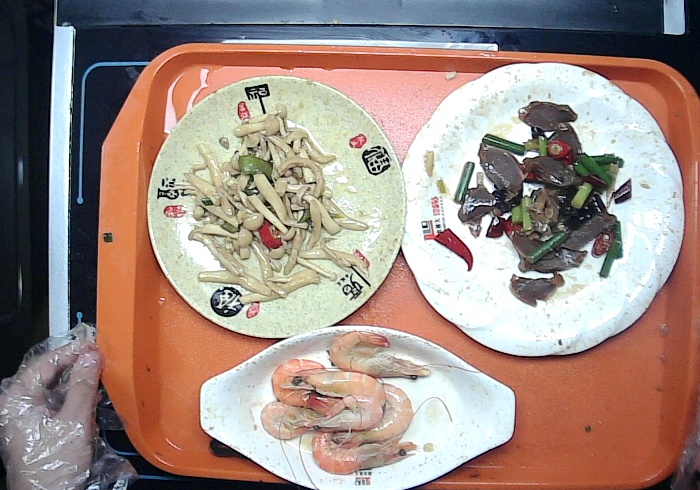NLDX-Bai_Zhe_Yuan_Pan: (403, 62, 685, 355)
NLDX-Fu_Zi_Yuan_Pan: (144, 74, 404, 338)
NLDX-Yu_Pan: (198, 323, 514, 490)
